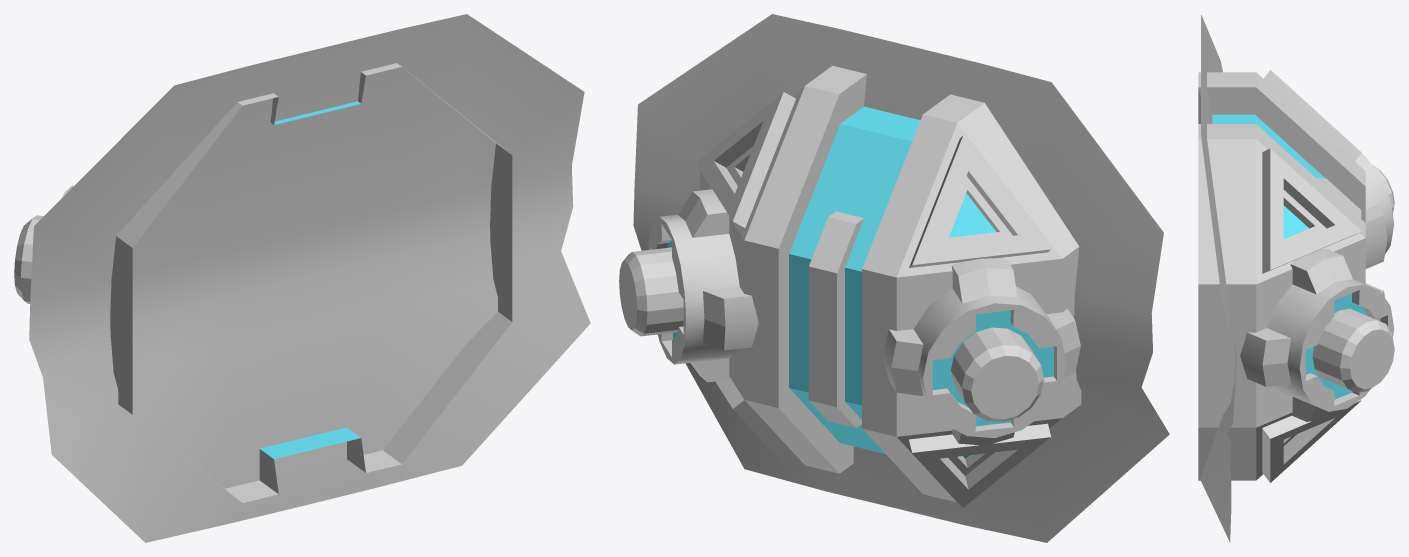
File: Mod_BackPlate_Mirage1.fbx
3 renders of one model, left to right at view 1: azimuth 30°, elevation 25°; view 2: azimuth 150°, elevation 25°; view 3: azimuth 270°, elevation 25°, orthographic. The views are drawn at different scales.
Parts seen in each view (by area): view 1: Mod_BackPlate_Mirage1; view 2: Mod_BackPlate_Mirage1; view 3: Mod_BackPlate_Mirage1.
Boxes of the visible parts, <box> form: Mod_BackPlate_Mirage1: <box>14,14,590,542</box>; Mod_BackPlate_Mirage1: <box>619,14,1169,542</box>; Mod_BackPlate_Mirage1: <box>1198,15,1394,542</box>.
Size of the model in its own units: 326 by 266 by 117.
